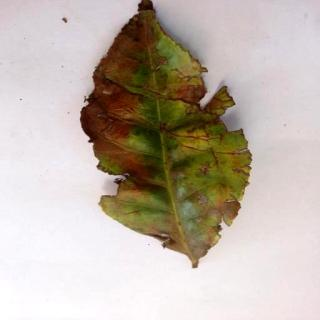Algal Leaf: (81, 1, 255, 269)
